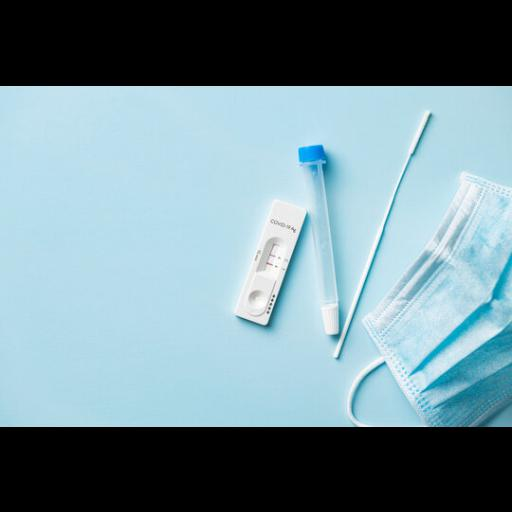Pos: (234, 198, 307, 326)
